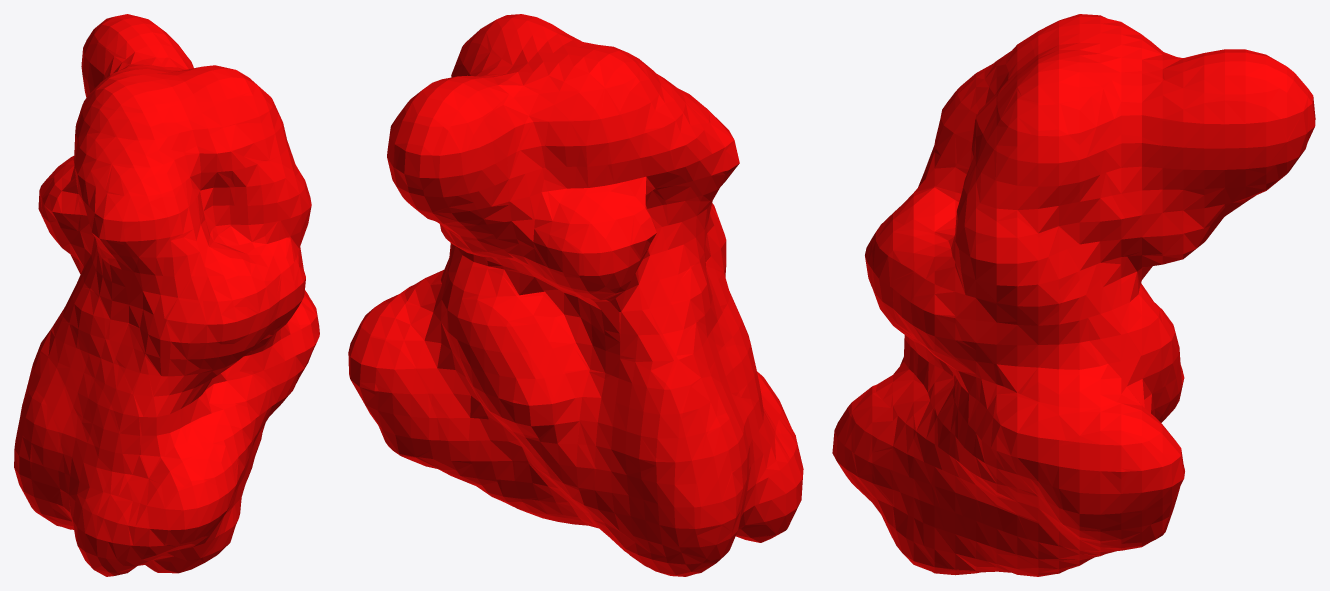
Rendered from yggN_coarse.dae.
The picture shows the model from 3 angles, left to right: view 1: azimuth 30°, elevation 25°; view 2: azimuth 150°, elevation 25°; view 3: azimuth 270°, elevation 25°; orthographic projection. The views are drawn at different scales.
Parts seen in each view (by area): view 1: yggN; view 2: yggN; view 3: yggN.
Part boxes in pixels (bbox=[...]): yggN: bbox=[14, 14, 319, 576]; yggN: bbox=[348, 14, 803, 576]; yggN: bbox=[832, 14, 1315, 576].
Size of the model in its own units: 45.77 by 64.86 by 51.19.
